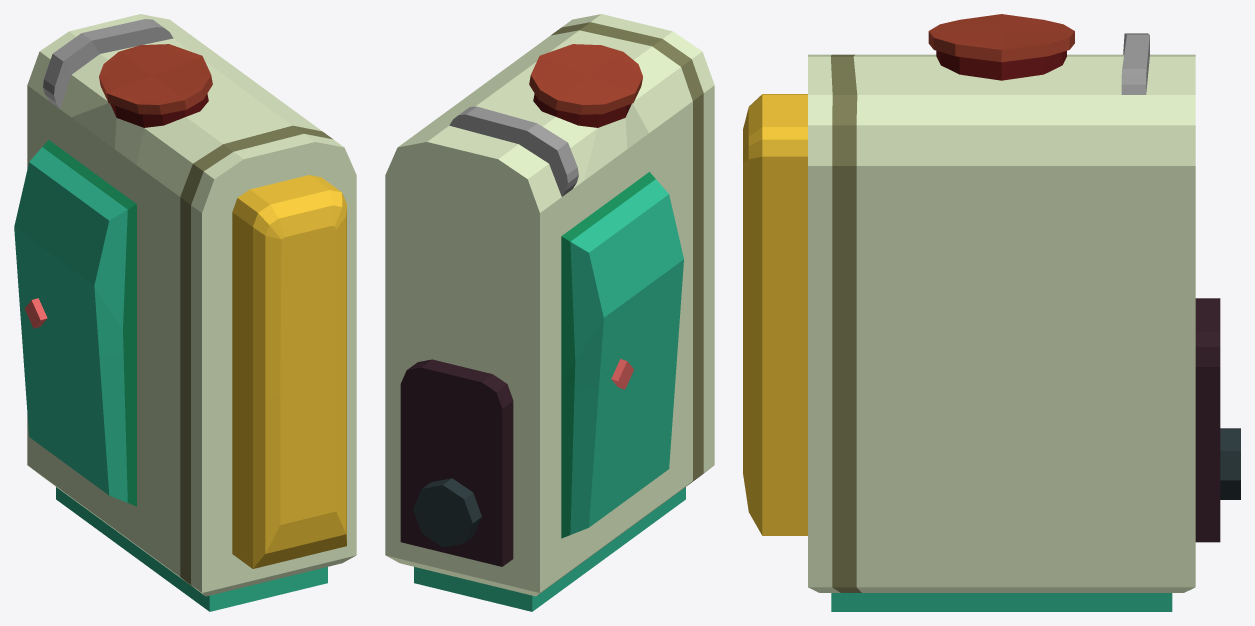
Rendered from fumigator_1.glb.
3 renders of one model, left to right at view 1: azimuth 30°, elevation 25°; view 2: azimuth 150°, elevation 25°; view 3: azimuth 270°, elevation 25°, orthographic. The views are drawn at different scales.
Visible parts, largest first — view 1: fumigator_1; view 2: fumigator_1; view 3: fumigator_1.
Boxes of the visible parts, x1,y1,x2,y2 form: fumigator_1: (14, 14, 356, 611); fumigator_1: (385, 14, 714, 611); fumigator_1: (743, 14, 1240, 611).
Bounding box in the file's own units: 0.9481 × 2.23 × 1.88.
1 material, 1 textured.
